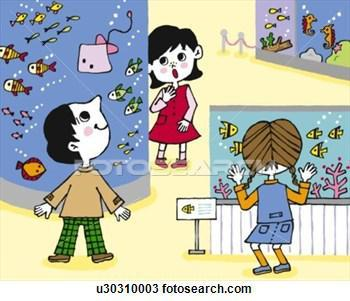person: (28, 100, 133, 265), (225, 119, 317, 276), (145, 23, 203, 169)
